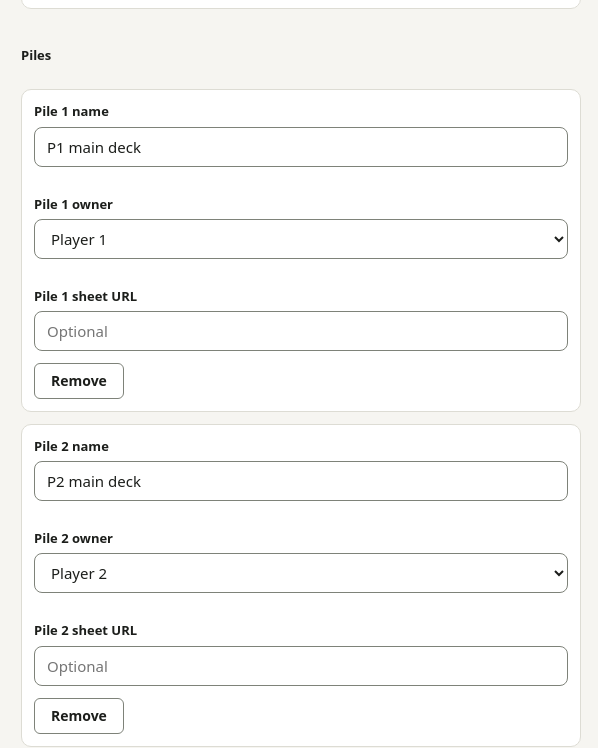
Scenario: FS-2 format editor piles › removes at once, then focuses the next pile’s Remove, else the previous, else Add pile
(page scrolled)
What coordinates should you click on to do the following:
click the button with aria-label "Remove P1 main deck"
I would click on:
 (79, 381)
Its box is x1=34 y1=363 x2=124 y2=399.
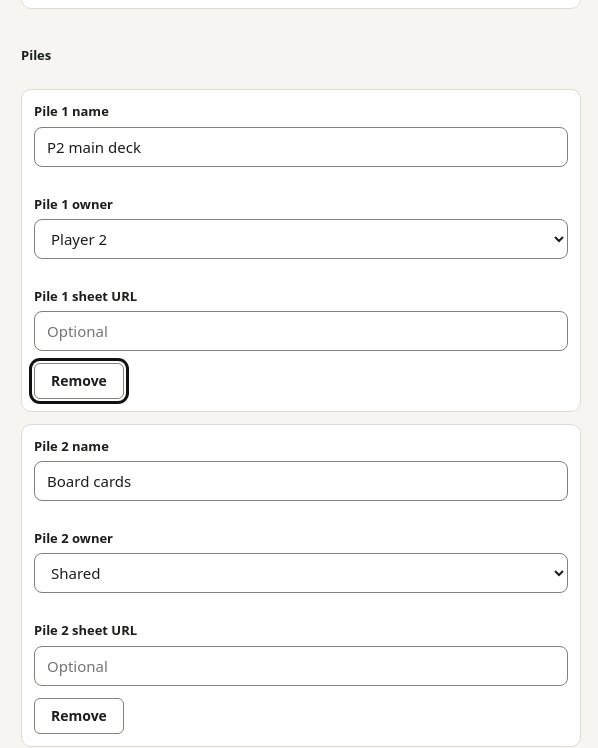
What coordinates should you click on to do the following:
click the button with aria-label "Remove Board cards"
I would click on:
 (79, 716)
Its box is x1=34 y1=698 x2=124 y2=734.
(page scrolled)
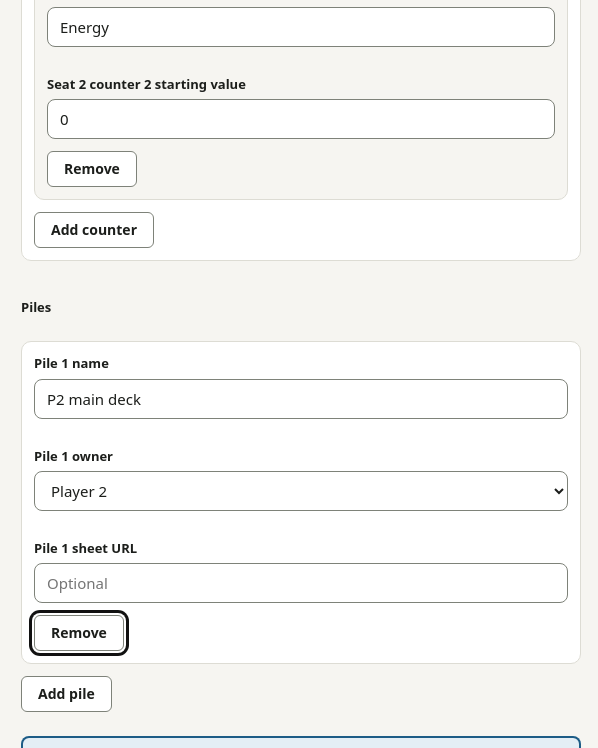
What coordinates should you click on to do the following:
click the button with aria-label "Remove P2 main deck"
I would click on:
 (79, 633)
Its box is x1=34 y1=615 x2=124 y2=651.
(page scrolled)
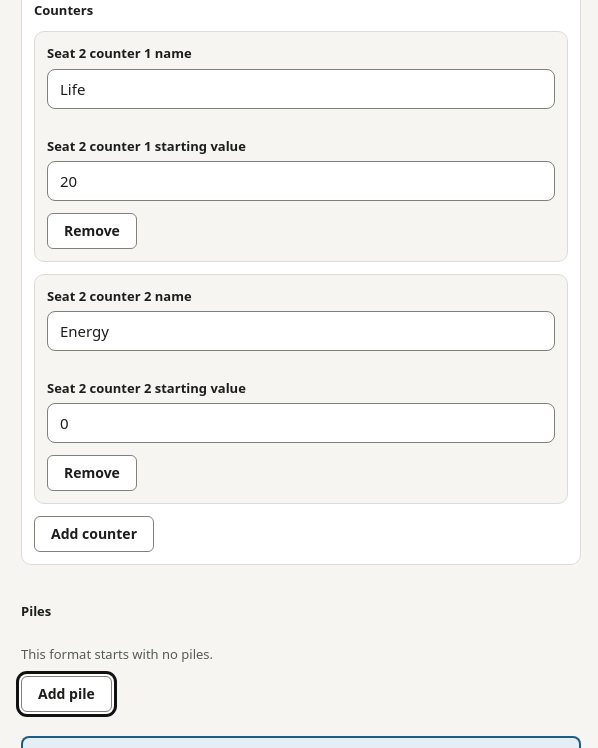
Expected: the text "This format starts with no piles." is shown, x1=21 y1=645 x2=213 y2=663
